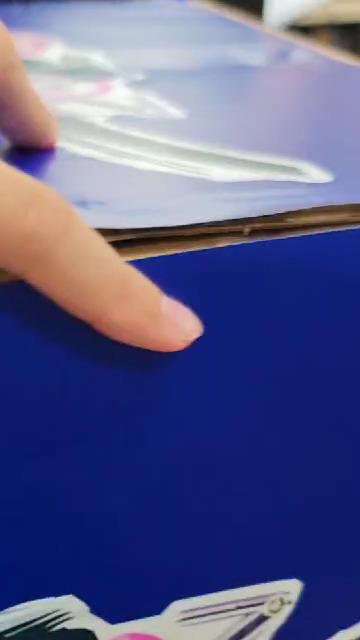B_R1: (0, 539, 359, 640)
